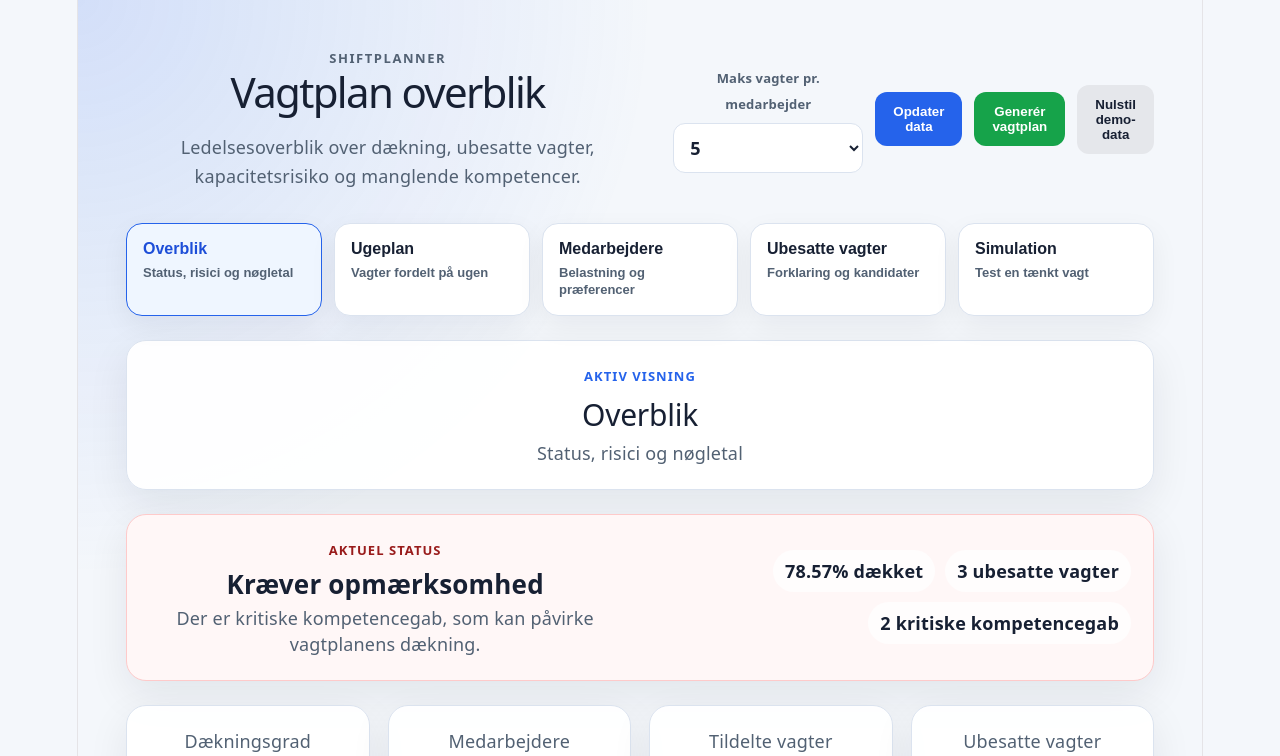
App › reloads employee preference profiles after resetting demo data
Click the button "Medarbejdere Belastning og præferencer".
click(640, 269)  # box 542,223 -> 738,316
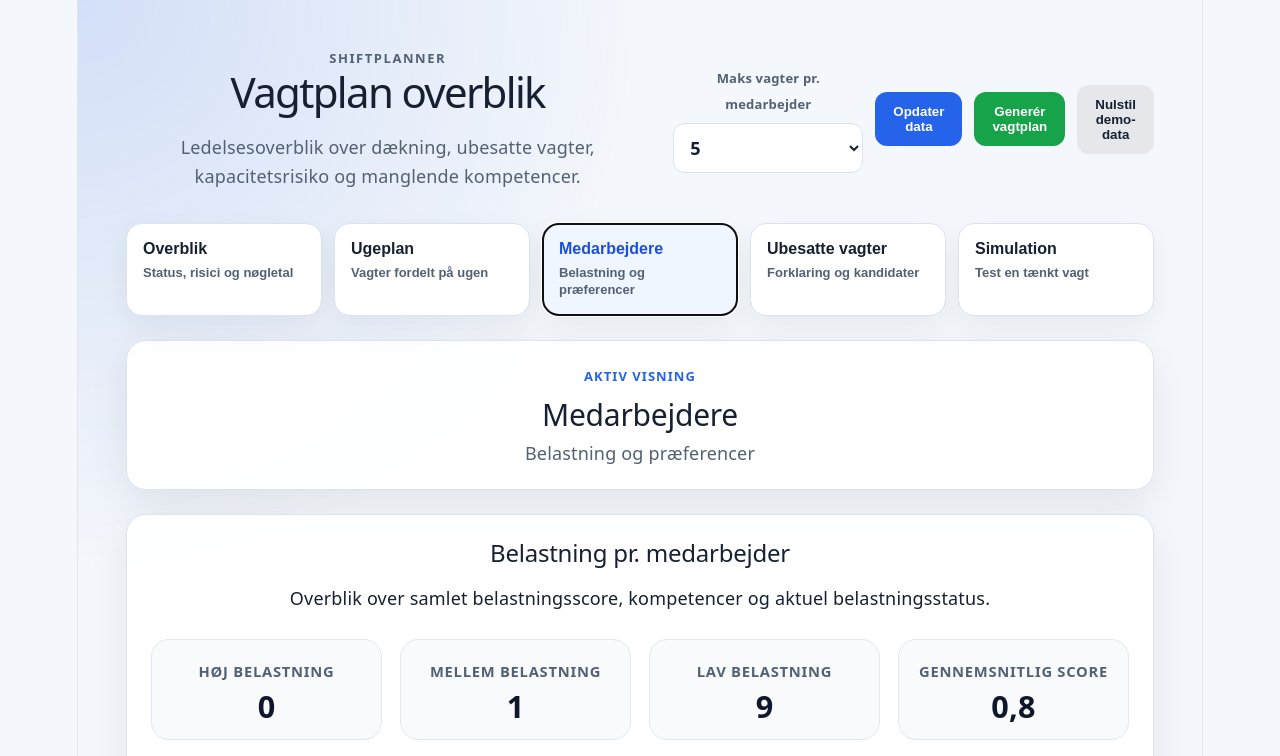
Click the button "Nulstil demo-data".
click(1116, 119)  # box 1077,85 -> 1154,154
(page scrolled)
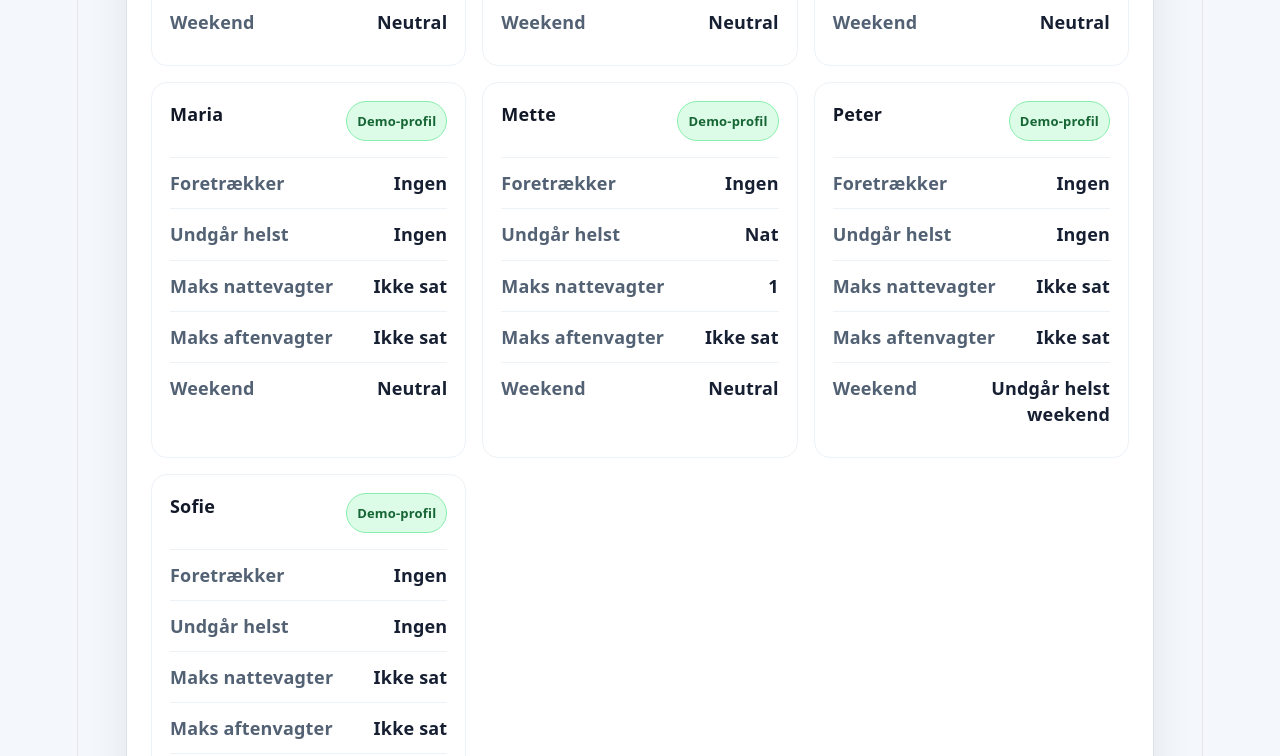
Expected: the text "Undgår helst weekend" is shown, 991,376 -> 1110,426
